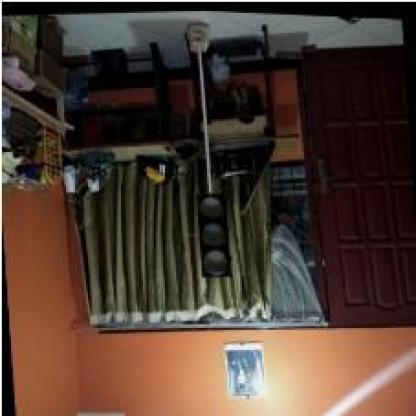yellow: (196, 192, 233, 278)
